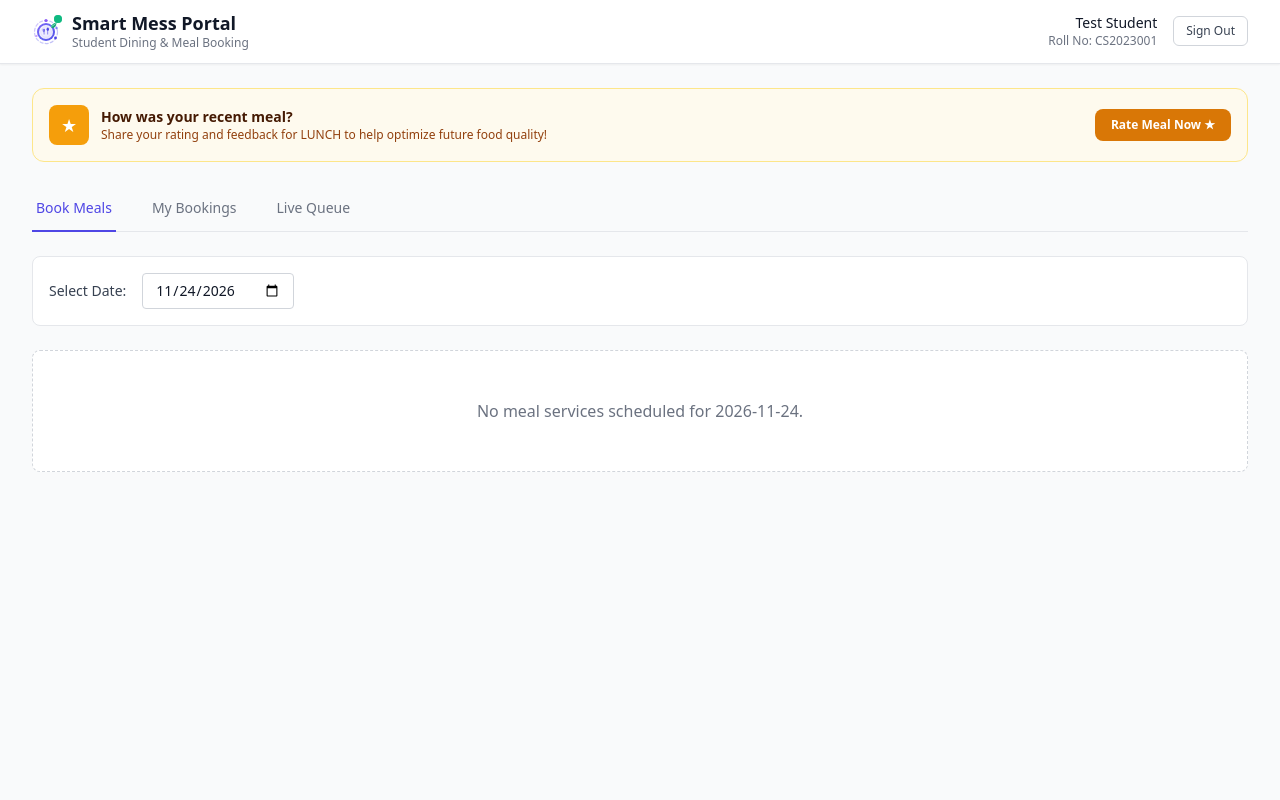
Scenario: Phase 6 Client — Student Feedback & Dashboards › Student Dashboard Feedback Integration › shows Rate Meal button on SERVED booking in My Bookings
This screenshot has width=1280, height=800.
// Switch to My Bookings tab
Click the button "My Bookings": (194, 208) top-left (148, 186), bottom-right (240, 232)
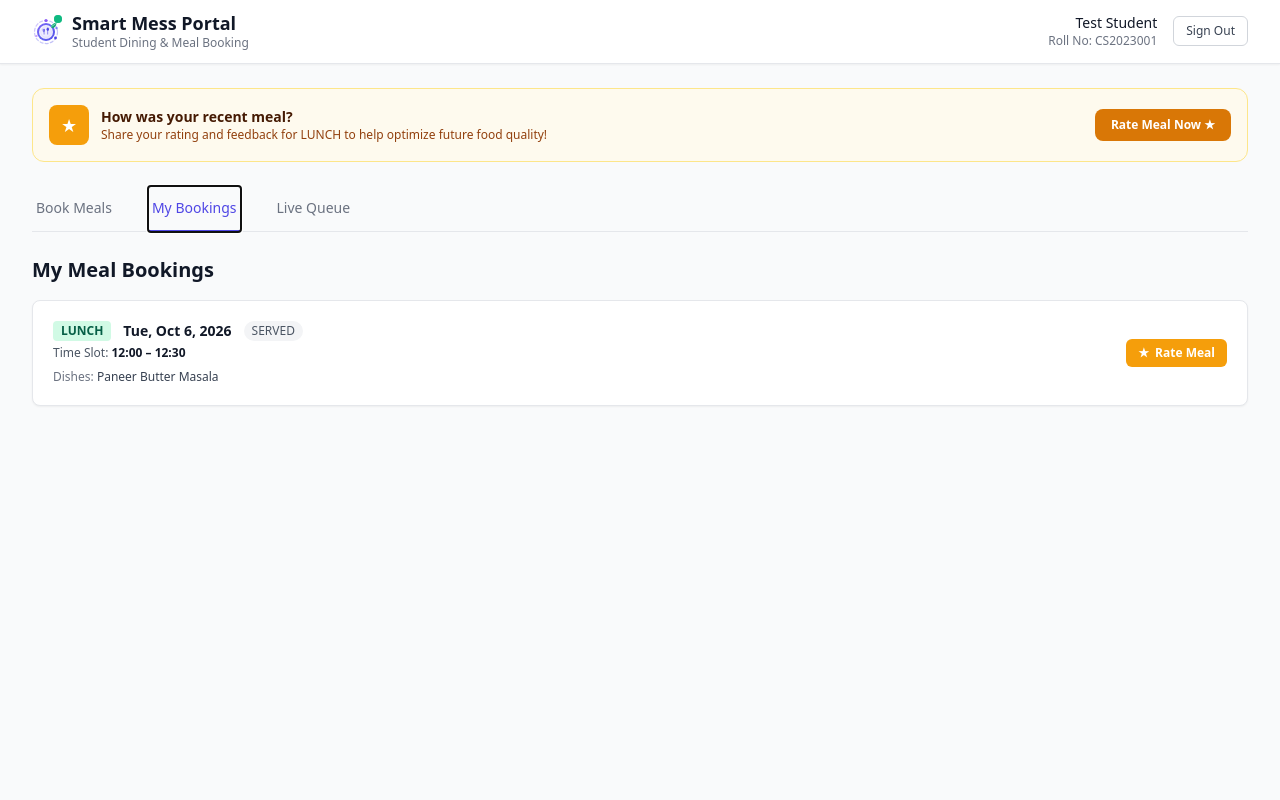
Check: the text "SERVED" is shown, box top-left (244, 320), bottom-right (303, 340)
// Clicking Rate Meal opens feedback modal
Click the button "Rate Meal Now ★": (1163, 124) top-left (1095, 108), bottom-right (1231, 140)
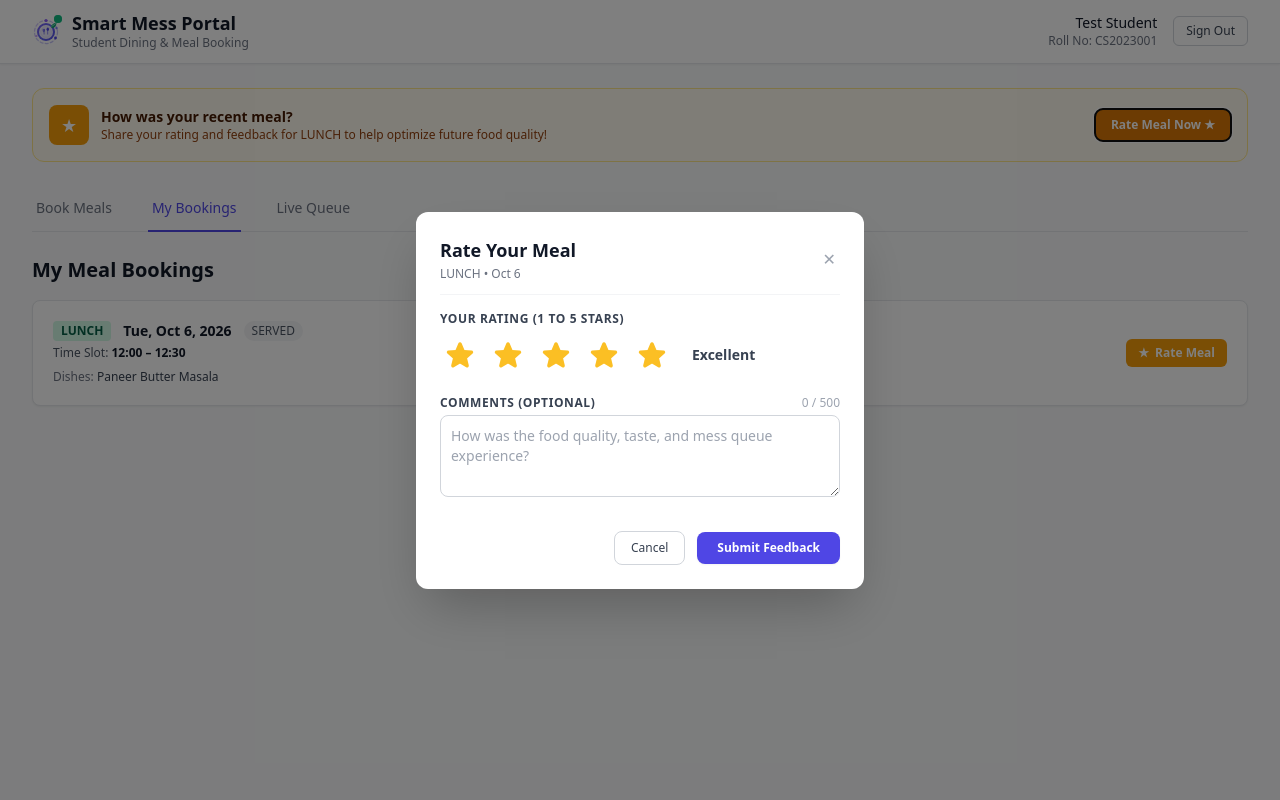
Check: the heading "Rate Your Meal" is shown, box top-left (440, 236), bottom-right (576, 264)
